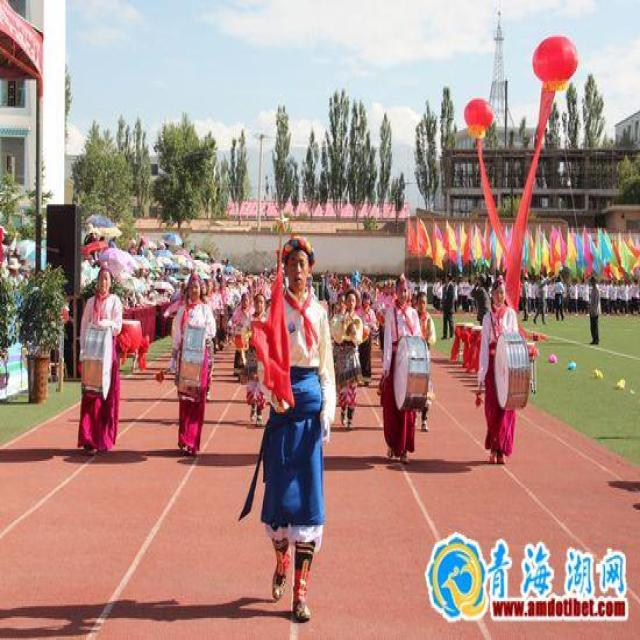non-fight: (251, 235, 336, 621), (76, 263, 123, 454), (378, 274, 424, 460), (169, 269, 214, 454), (477, 277, 519, 461), (332, 286, 369, 429)
